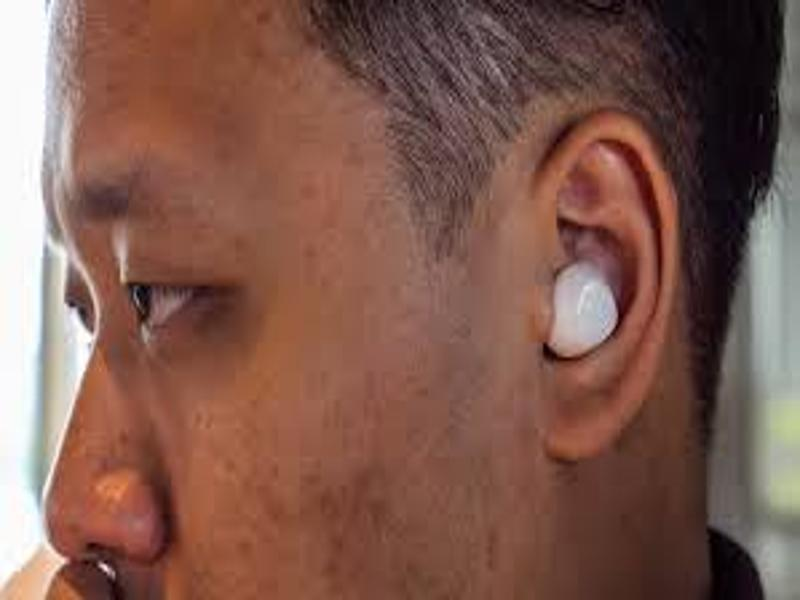headphone: (540, 260, 622, 358)
